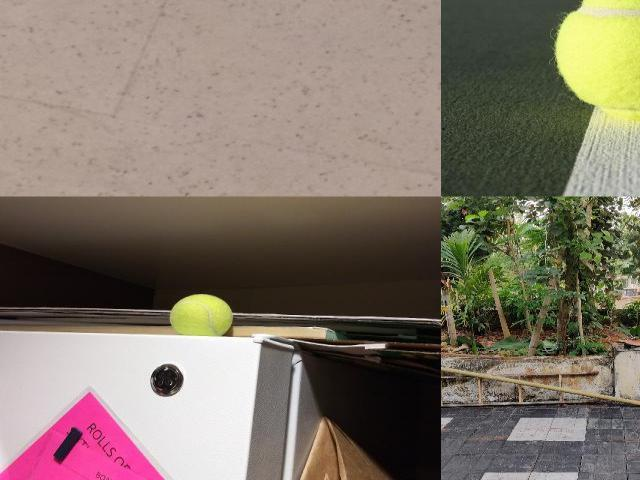tennis-ball: (554, 0, 639, 118), (169, 293, 233, 334)
